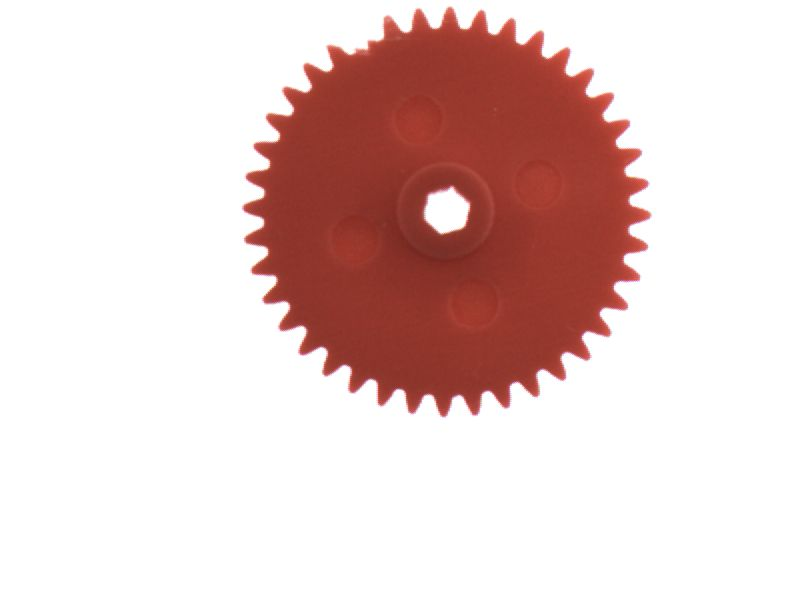defect_lack: (340, 19, 395, 69)
